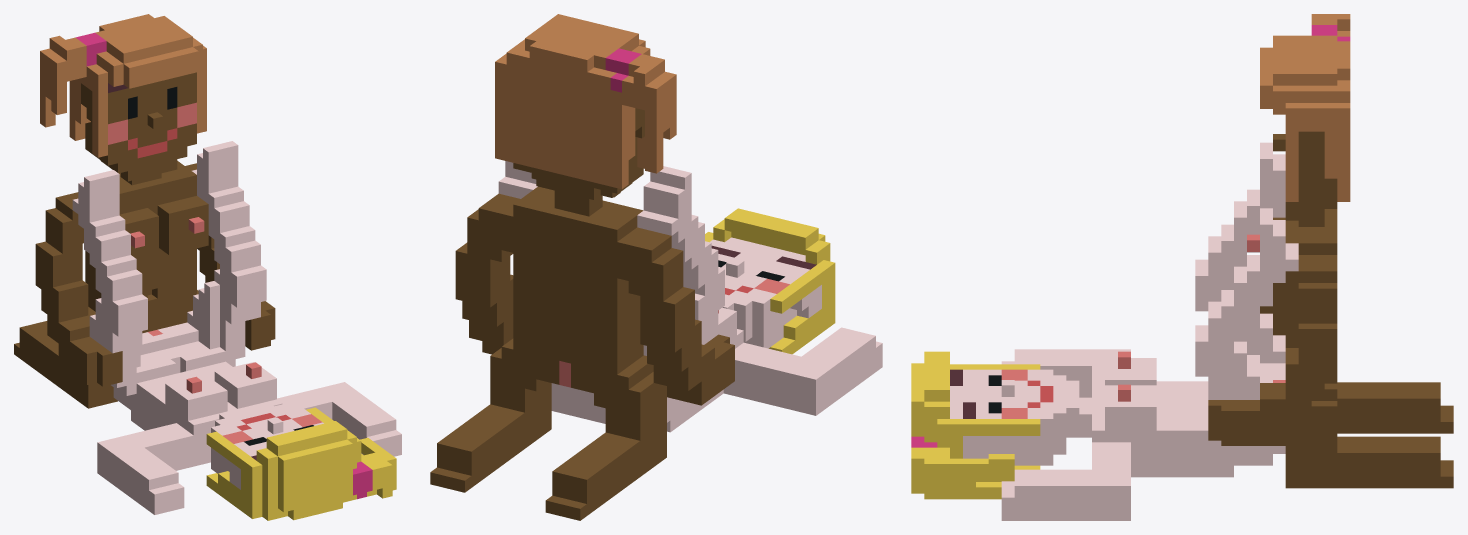
File: kama22.glb
3 renders of one model, left to right at view 1: azimuth 30°, elevation 25°; view 2: azimuth 150°, elevation 25°; view 3: azimuth 270°, elevation 25°, orthographic. The views are drawn at different scales.
Visible parts, largest first — view 1: Node; view 2: Node; view 3: Node.
Part boxes in pixels (bbox=[...]): Node: bbox=[14, 14, 401, 520]; Node: bbox=[430, 14, 882, 520]; Node: bbox=[911, 14, 1453, 520].
Bounding box in the file's own units: 2.5 × 3.4 × 4.2.
Materials: 1 (1 with a texture image).
